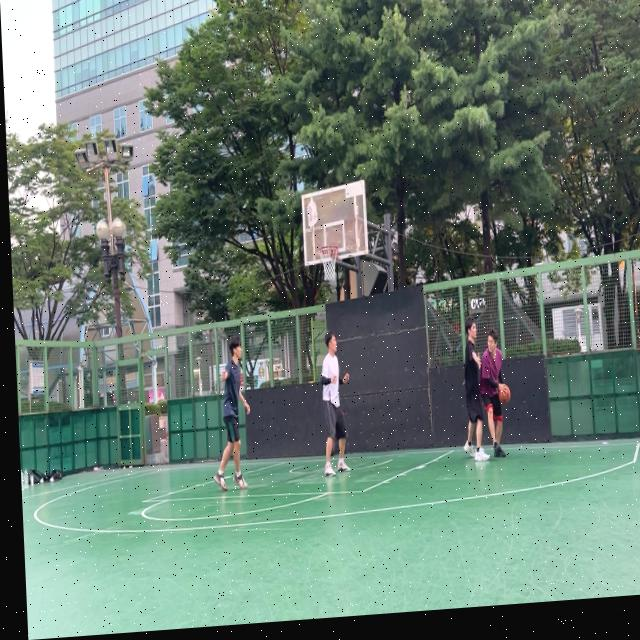basketball: (498, 382, 511, 406)
hoop: (317, 243, 340, 282)
